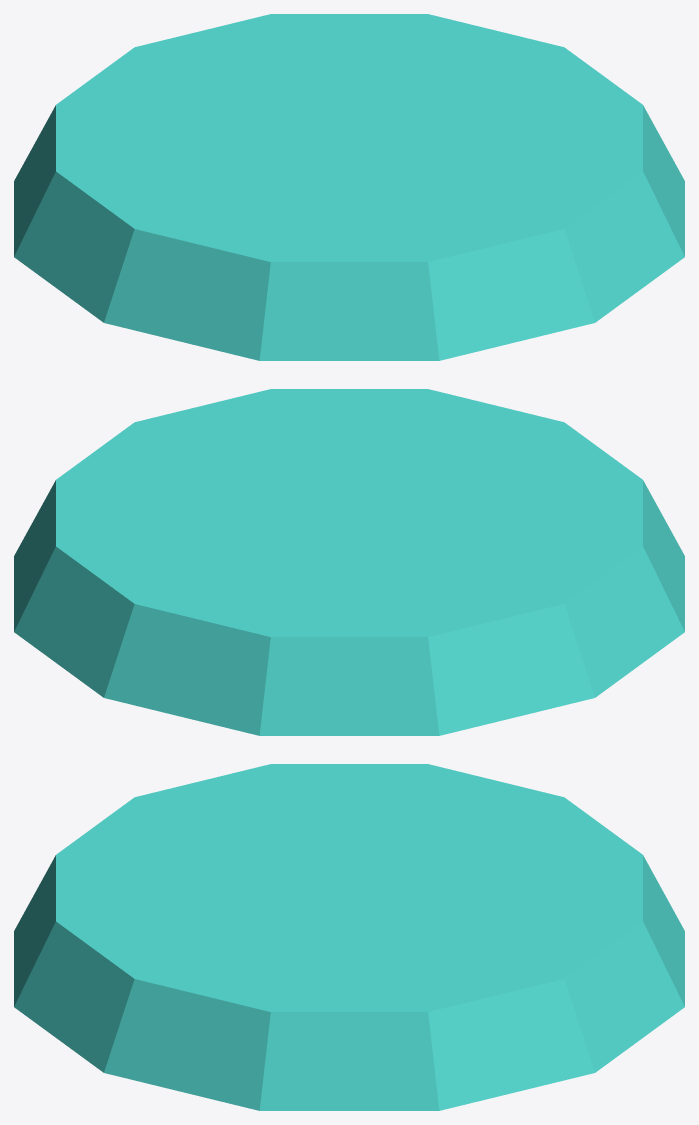
The model's file is bubble_ending.fbx.
3 views of the same model, one above another, from view 1: azimuth 30°, elevation 25°; view 2: azimuth 150°, elevation 25°; view 3: azimuth 270°, elevation 25° (orthographic).
Parts seen in each view (by area): view 1: outline; view 2: outline; view 3: outline.
Boxes of the visible parts, x1,y1,x2,y2 form: outline: [14, 14, 684, 360]; outline: [14, 389, 684, 735]; outline: [14, 764, 684, 1110].
Bounding box in the file's own units: 93.75 × 12.5 × 93.75.
2 materials, 2 textured.
